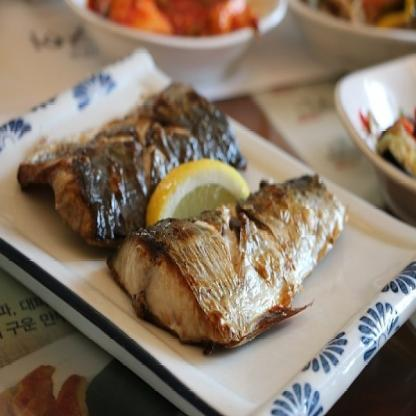Peixe: (116, 179, 353, 349), (46, 92, 247, 230)
